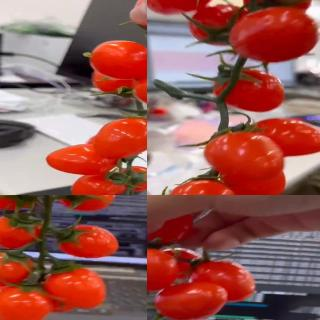tomato: (229, 4, 320, 64), (203, 131, 285, 181), (211, 68, 285, 114), (244, 116, 320, 157), (189, 261, 258, 304), (153, 281, 228, 320), (42, 266, 107, 309), (186, 4, 250, 46), (46, 142, 121, 176), (91, 117, 147, 161), (89, 41, 147, 82), (58, 224, 121, 258), (218, 164, 287, 195), (0, 286, 56, 320), (0, 212, 44, 249), (147, 247, 181, 293), (69, 173, 127, 195), (168, 177, 238, 195), (0, 251, 34, 287), (147, 0, 219, 15), (0, 284, 28, 320), (58, 195, 117, 212), (242, 0, 314, 12), (121, 166, 147, 193), (0, 195, 37, 212), (128, 0, 147, 33), (132, 70, 147, 108)
